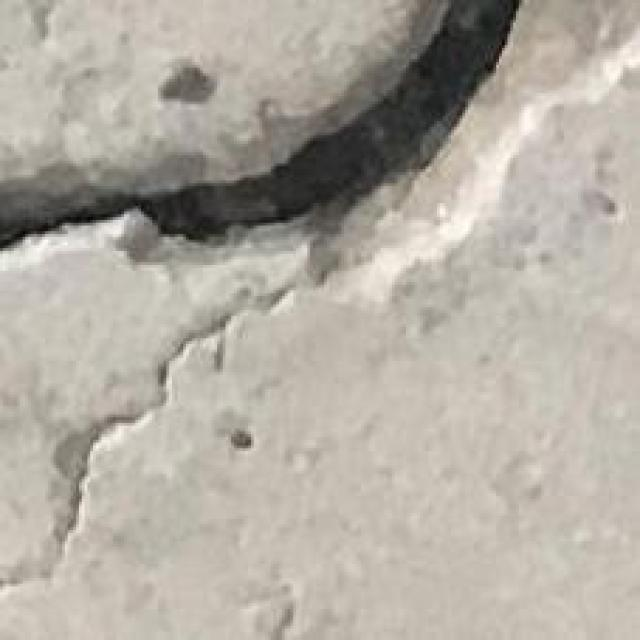Crack: (3, 3, 640, 606)
